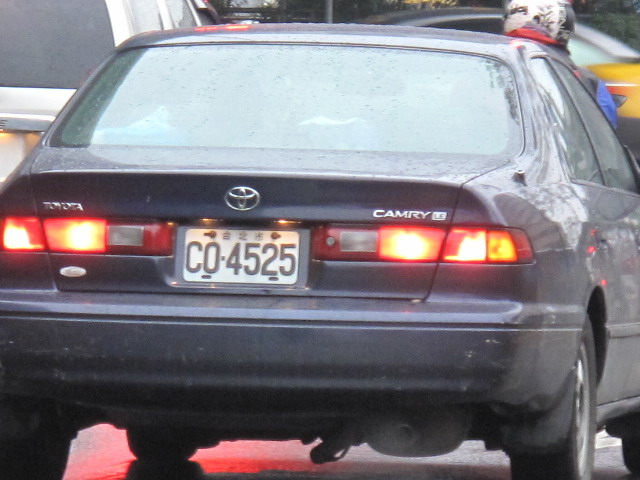plate: (180, 225, 298, 286)
